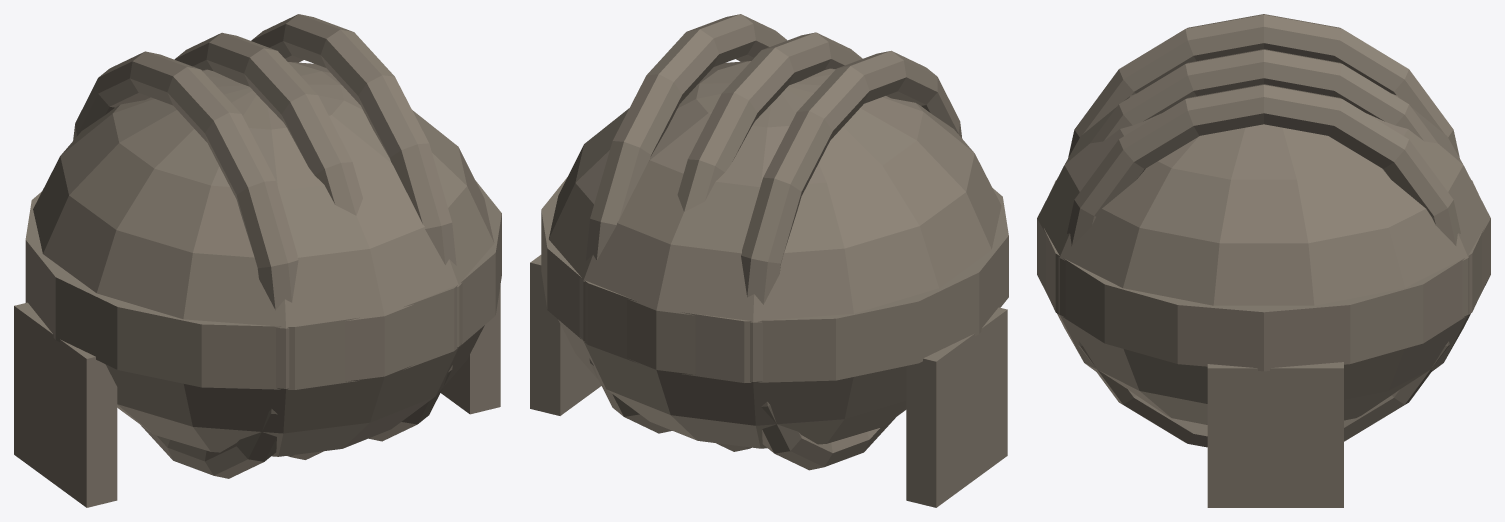
The model's file is hw-tanker-cap.glb.
3 views of the same model, side by side, from view 1: azimuth 30°, elevation 25°; view 2: azimuth 150°, elevation 25°; view 3: azimuth 270°, elevation 25° (orthographic). The views are drawn at different scales.
Visible parts, largest first — view 1: hat_dome, hat_band, hat_rib_0, hat_earflap_-1, hat_rib_2, hat_rib_1, hat_earflap_1; view 2: hat_dome, hat_band, hat_rib_0, hat_earflap_-1, hat_rib_2, hat_rib_1, hat_earflap_1; view 3: hat_dome, hat_band, hat_rib_2, hat_earflap_1, hat_rib_0, hat_rib_1.
Boxes of the visible parts, x1,y1,x2,y2 form: hat_dome: (33, 62, 494, 456); hat_band: (25, 180, 501, 389); hat_rib_0: (73, 51, 298, 478); hat_earflap_-1: (14, 302, 117, 507); hat_rib_2: (251, 14, 456, 441); hat_rib_1: (174, 32, 362, 459); hat_earflap_1: (440, 285, 500, 414); hat_dome: (549, 61, 1001, 448); hat_band: (541, 177, 1008, 382); hat_rib_0: (741, 50, 962, 470); hat_earflap_-1: (906, 307, 1007, 507); hat_rib_2: (585, 14, 787, 433); hat_rib_1: (677, 32, 862, 451); hat_earflap_1: (530, 255, 601, 415); hat_dome: (1037, 94, 1490, 424); hat_band: (1044, 180, 1483, 371); hat_rib_2: (1067, 84, 1460, 447); hat_earflap_1: (1207, 362, 1343, 507); hat_rib_0: (1068, 14, 1459, 157); hat_rib_1: (1090, 49, 1437, 143).
Size of the model in its own units: 0.38 by 0.346 by 0.3826.
